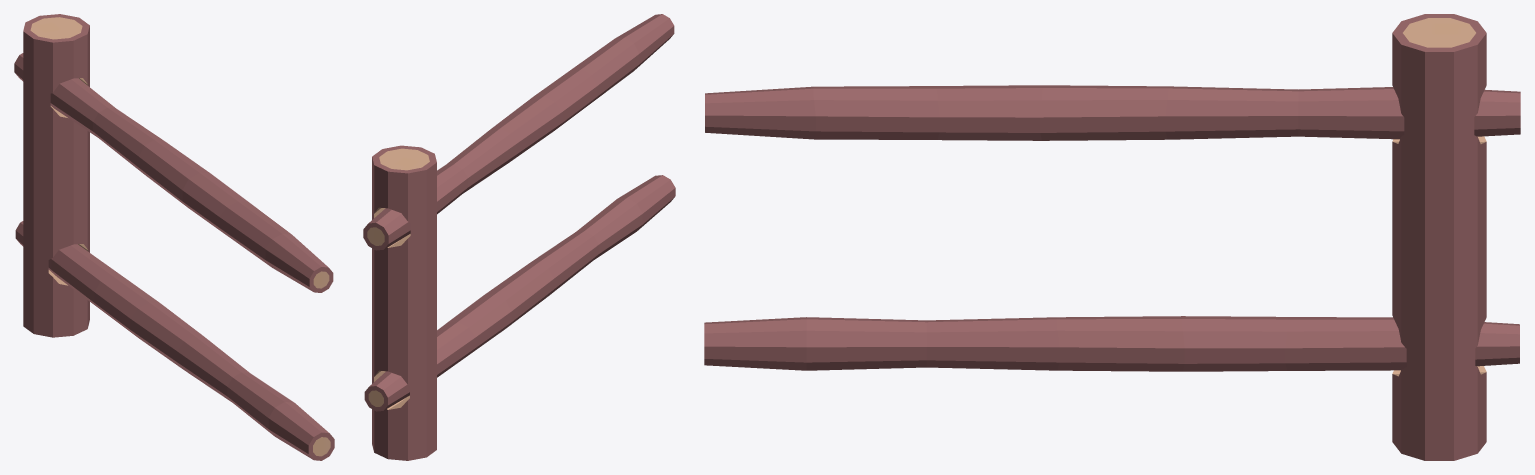
File: fence.glb
The picture shows the model from 3 angles, left to right: view 1: azimuth 30°, elevation 25°; view 2: azimuth 150°, elevation 25°; view 3: azimuth 270°, elevation 25°; orthographic projection. The views are drawn at different scales.
Visible parts, largest first — view 1: Fence; view 2: Fence; view 3: Fence.
Part boxes in pixels (x1,y1,x2,y2): Fence: (14,14,334,460); Fence: (363,14,675,460); Fence: (704,14,1520,460).
Bounding box in the file's own units: 0.4075 × 2.05 × 3.7.
Materials: 1 (1 with a texture image).
